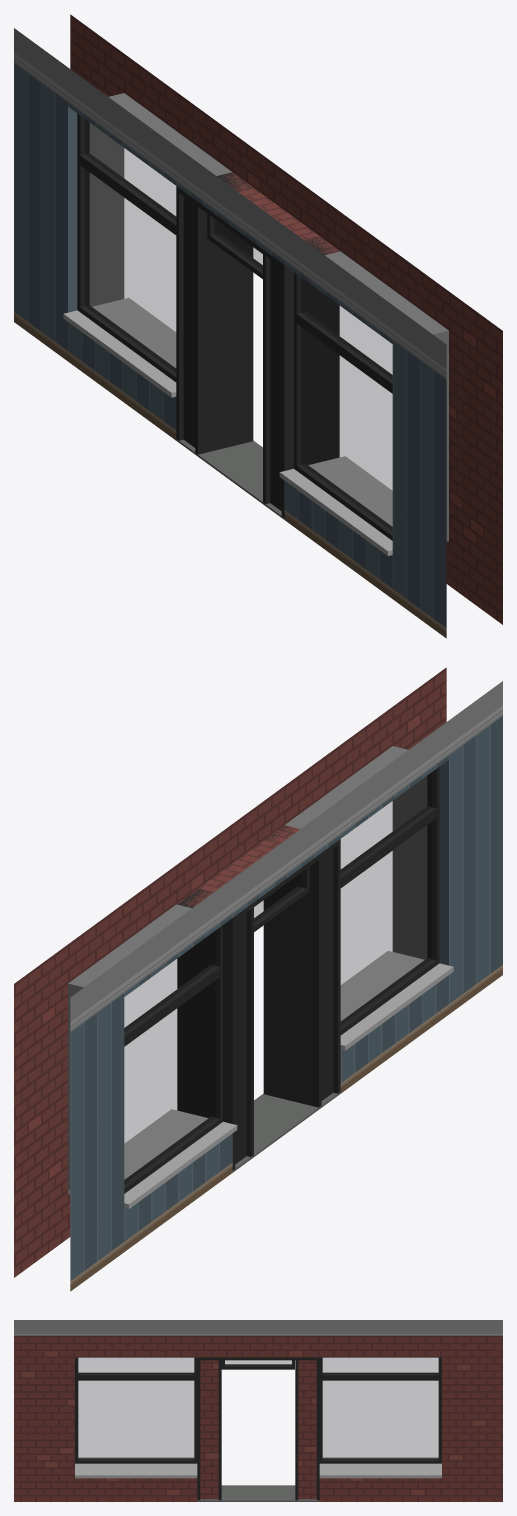
File: SM_shopFront_01.glb
The picture shows the model from 3 angles, top to bottom: view 1: azimuth 30°, elevation 25°; view 2: azimuth 150°, elevation 25°; view 3: azimuth 270°, elevation 25°; orthographic projection. The views are drawn at different scales.
Parts seen in each view (by area): view 1: SM_shopFront_01; view 2: SM_shopFront_01; view 3: SM_shopFront_01.
Boxes of the visible parts, x1,y1,x2,y2 form: SM_shopFront_01: (14,14,502,638); SM_shopFront_01: (14,667,502,1291); SM_shopFront_01: (14,1320,502,1501).
Size of the model in its own units: 0.7 by 3 by 8.
4 materials, 3 textured.
